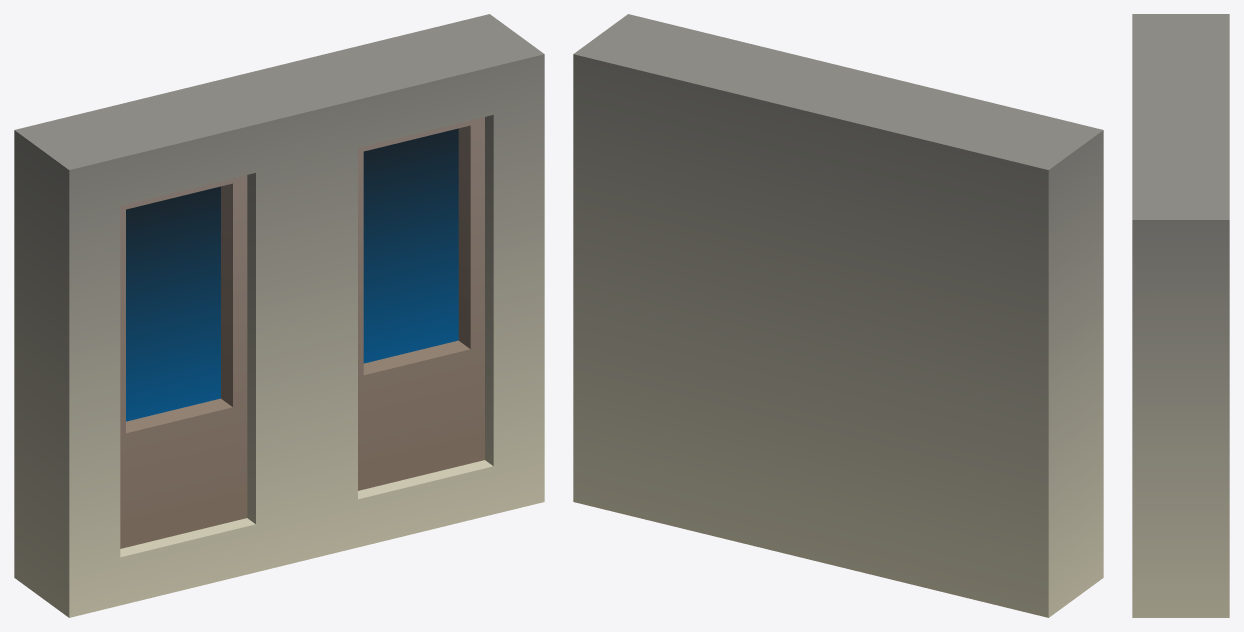
File: B02_fenetre_1.fbx
3 views of the same model, side by side, from view 1: azimuth 30°, elevation 25°; view 2: azimuth 150°, elevation 25°; view 3: azimuth 270°, elevation 25° (orthographic). The views are drawn at different scales.
Visible parts, largest first — view 1: B02_fenetre_1; view 2: B02_fenetre_1; view 3: B02_fenetre_1.
Boxes of the visible parts, x1=… form: B02_fenetre_1: x1=14, y1=14, x2=544, y2=617; B02_fenetre_1: x1=573, y1=14, x2=1103, y2=617; B02_fenetre_1: x1=1132, y1=14, x2=1229, y2=617.
Bounding box in the file's own units: 500 × 450 × 100.
